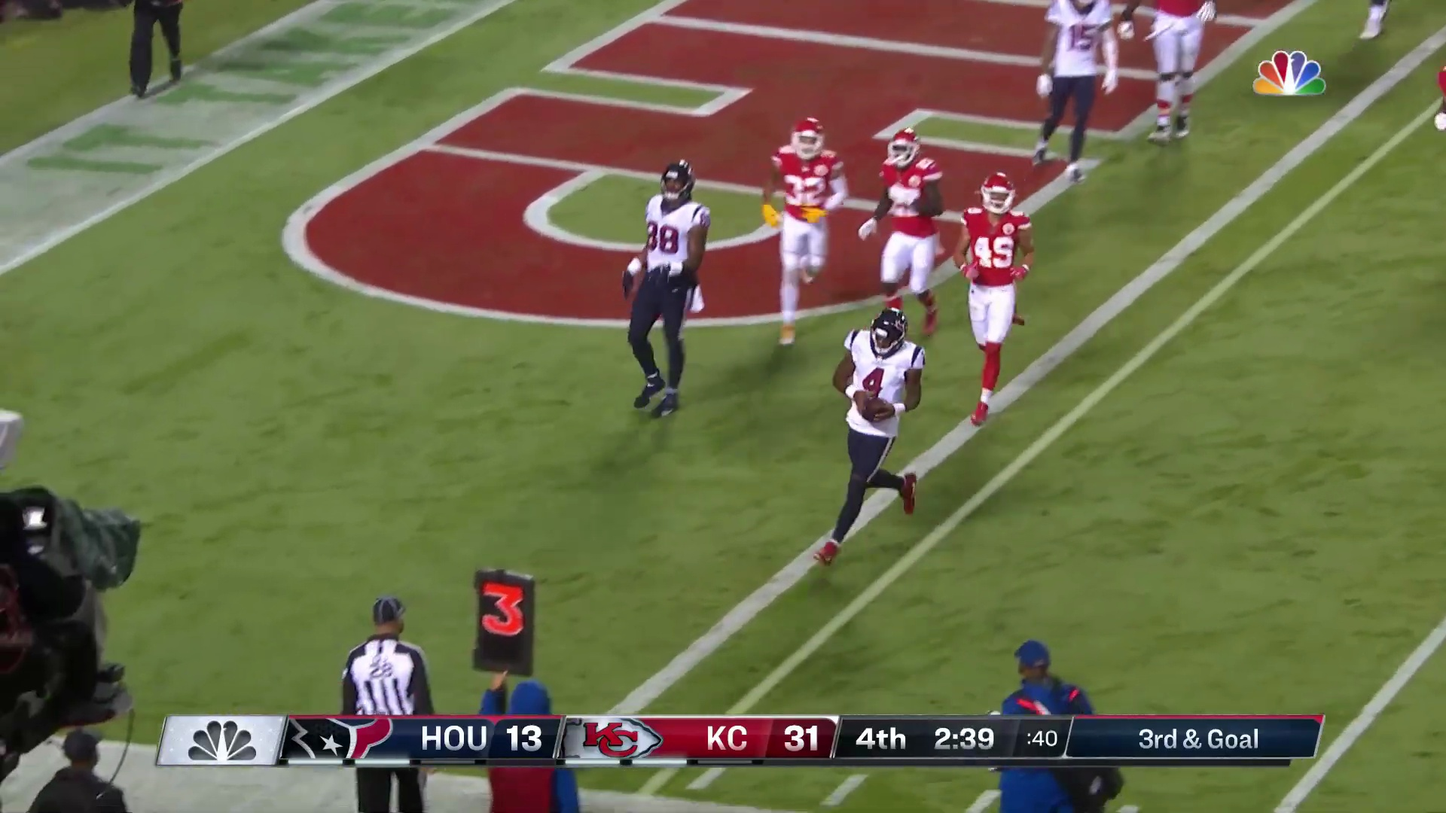Player: (624, 158, 710, 413), (961, 169, 1032, 425), (775, 114, 846, 347), (1032, 0, 1111, 174), (878, 125, 942, 330), (1149, 0, 1214, 141), (1051, 0, 1116, 91), (1436, 63, 1446, 130)
